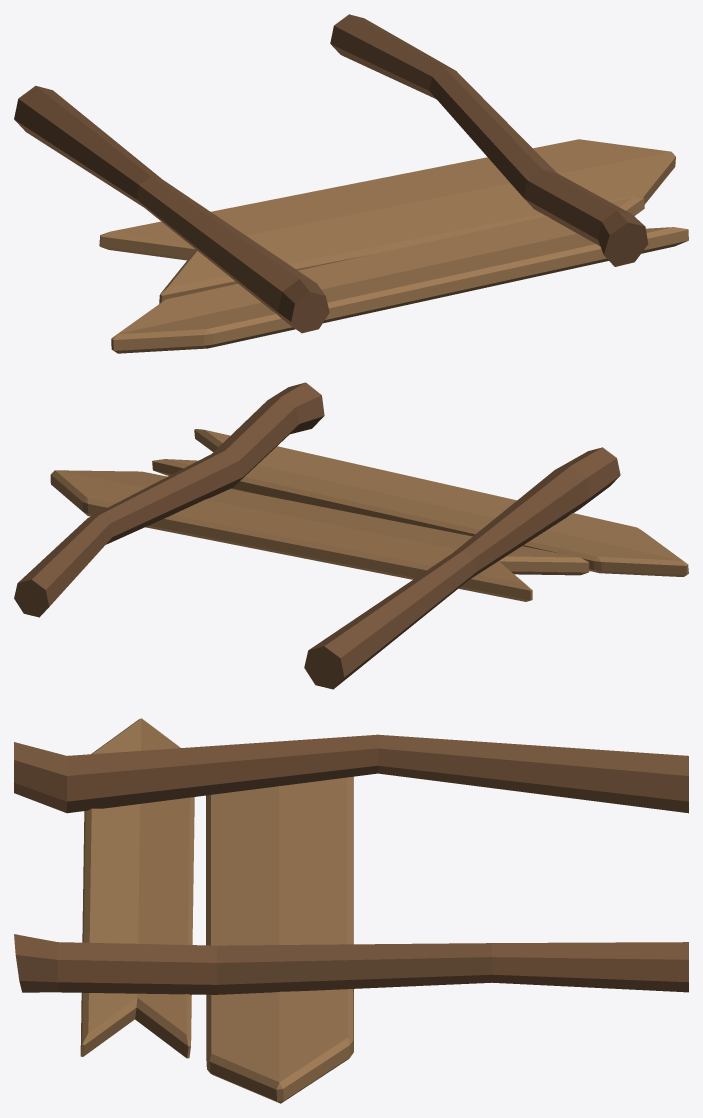
Rendered from Panel_19.fbx.
3 views of the same model, one above another, from view 1: azimuth 30°, elevation 25°; view 2: azimuth 150°, elevation 25°; view 3: azimuth 270°, elevation 25° (orthographic). The views are drawn at different scales.
Visible parts, largest first — view 1: Poteau 2*2 fleches LOW Petit.002; view 2: Poteau 2*2 fleches LOW Petit.002; view 3: Poteau 2*2 fleches LOW Petit.002.
Part boxes in pixels (box(x1,y1,x2,y2)): Poteau 2*2 fleches LOW Petit.002: box(14, 14, 688, 353); Poteau 2*2 fleches LOW Petit.002: box(14, 382, 688, 689); Poteau 2*2 fleches LOW Petit.002: box(14, 718, 688, 1103).
Size of the model in its own units: 99.89 by 13.34 by 79.74.
